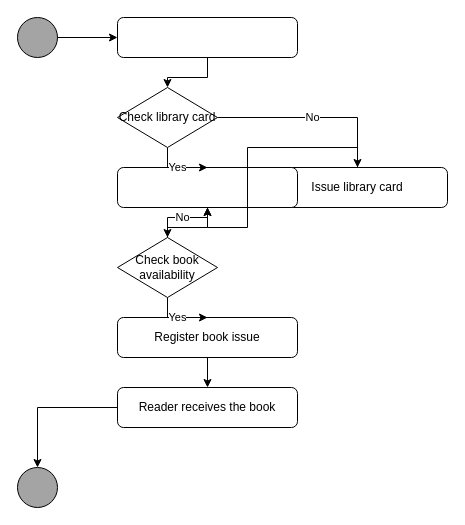
This 465x525 diagram has some shape labels left out. Each missing label, with the centre of its shape:
Reader visits the library: the point at 207,37
Select a book from catalog: the point at 207,187
